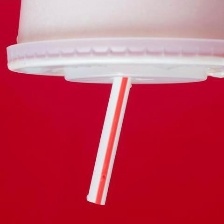drinking_straw: (82, 72, 138, 208)
glass: (1, 0, 224, 91)
